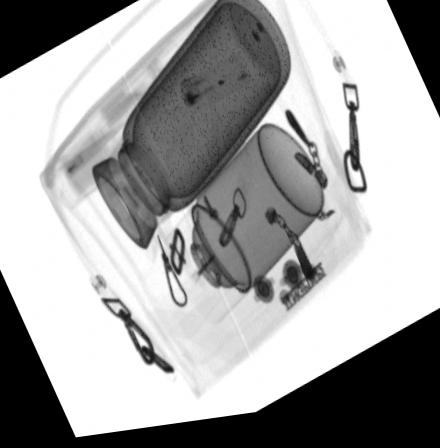Lighter: (179, 60, 250, 121)
Sprayer: (159, 131, 322, 331)
